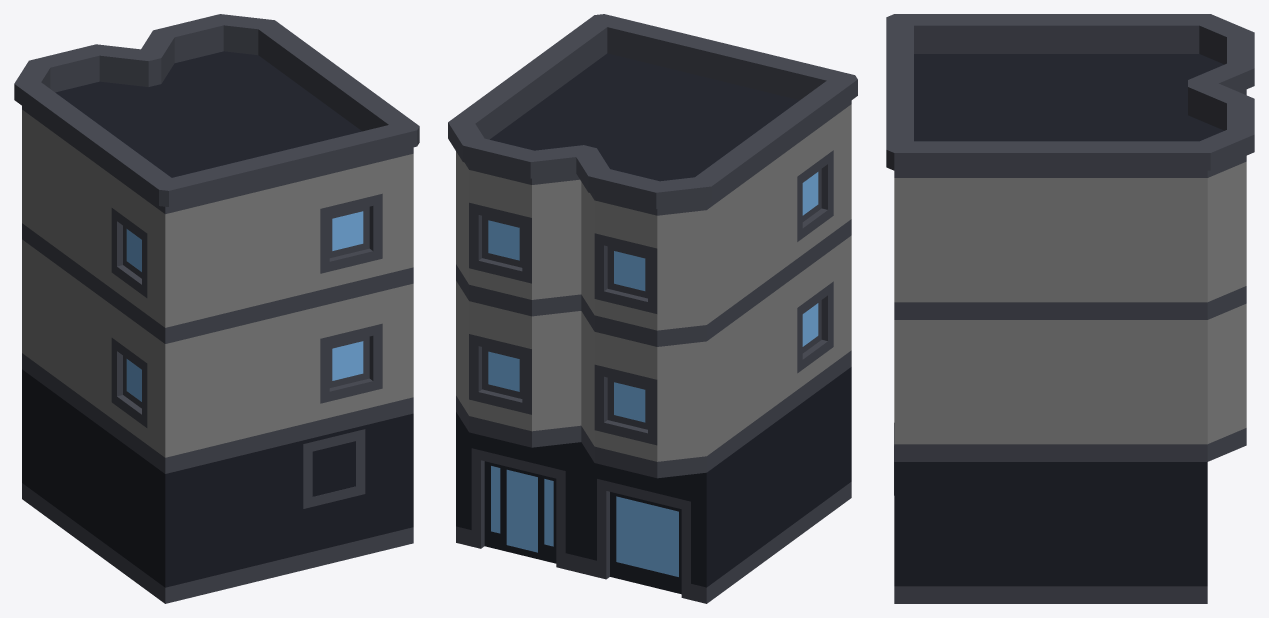
The model's file is variant_7.obj.
The picture shows the model from 3 angles, left to right: view 1: azimuth 30°, elevation 25°; view 2: azimuth 150°, elevation 25°; view 3: azimuth 270°, elevation 25°; orthographic projection. The views are drawn at different scales.
Parts seen in each view (by area): view 1: Building, Building_copy, Window_copy; view 2: Building; view 3: Building.
Part boxes in pixels (x1,y1,x2,y2): Building: (14, 14, 419, 603); Building_copy: (165, 414, 413, 587); Window_copy: (303, 429, 365, 508); Building: (448, 14, 857, 603); Building: (886, 14, 1254, 603).
Size of the model in its own units: 0.84 by 1.28 by 0.94.
